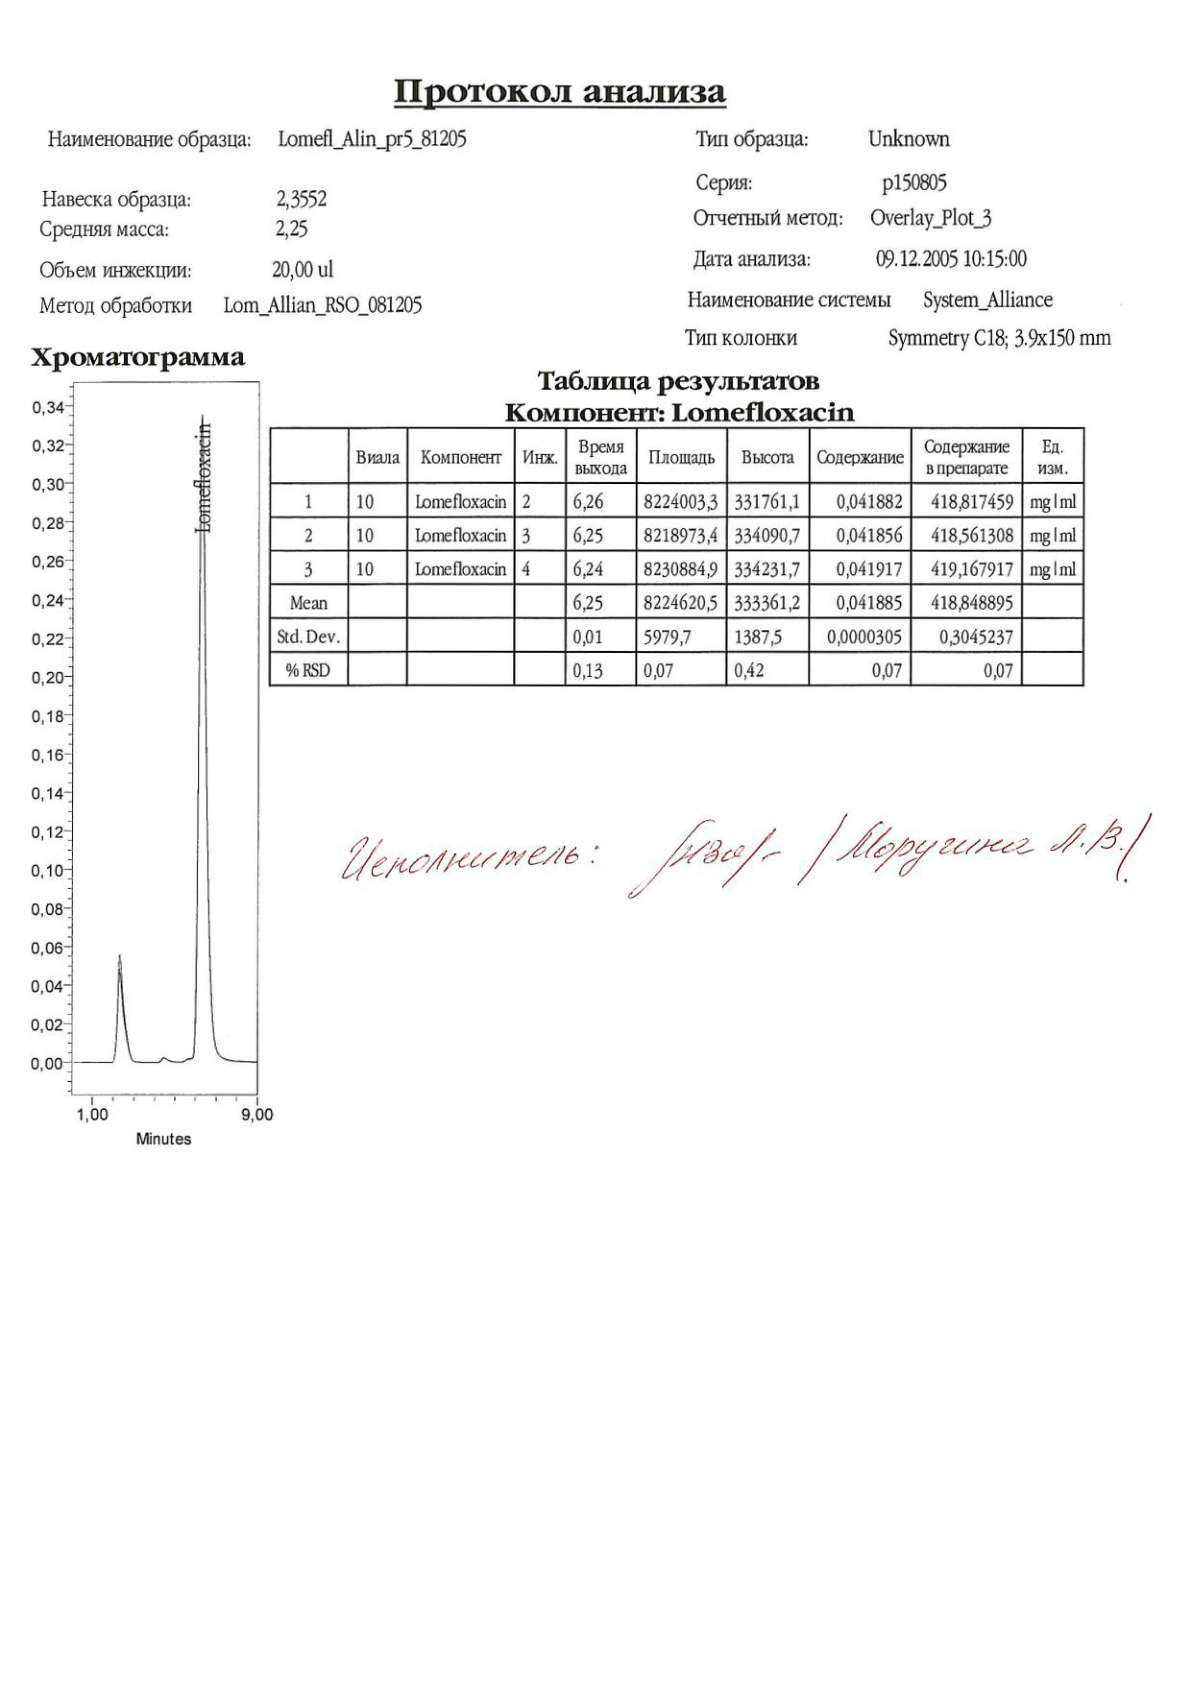full_lined: (268, 426, 1085, 687)
nolines: (35, 125, 1113, 352)
